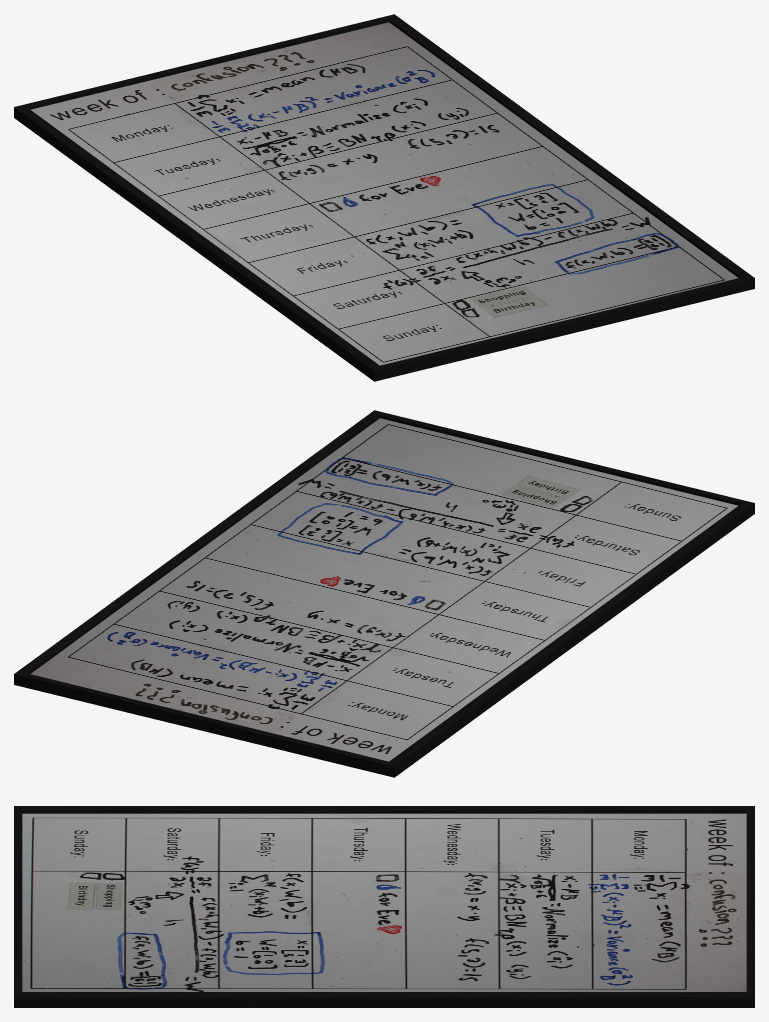
The model's file is whiteboard-planner.glb.
3 views of the same model, one above another, from view 1: azimuth 30°, elevation 25°; view 2: azimuth 150°, elevation 25°; view 3: azimuth 270°, elevation 25° (orthographic). The views are drawn at different scales.
Parts seen in each view (by area): view 1: Cube; view 2: Cube; view 3: Cube.
Boxes of the visible parts, x1=… form: Cube: x1=14, y1=14, x2=754, y2=381; Cube: x1=14, y1=410, x2=754, y2=777; Cube: x1=14, y1=806, x2=754, y2=1007.
Bounding box in the file's own units: 2 × 0.0543 × 3.28.
1 material, 1 textured.
